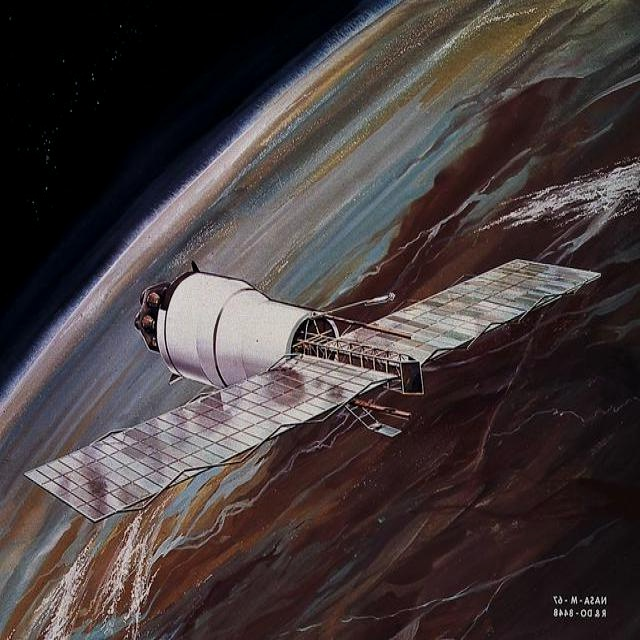medium_debris: (19, 202, 625, 548)
